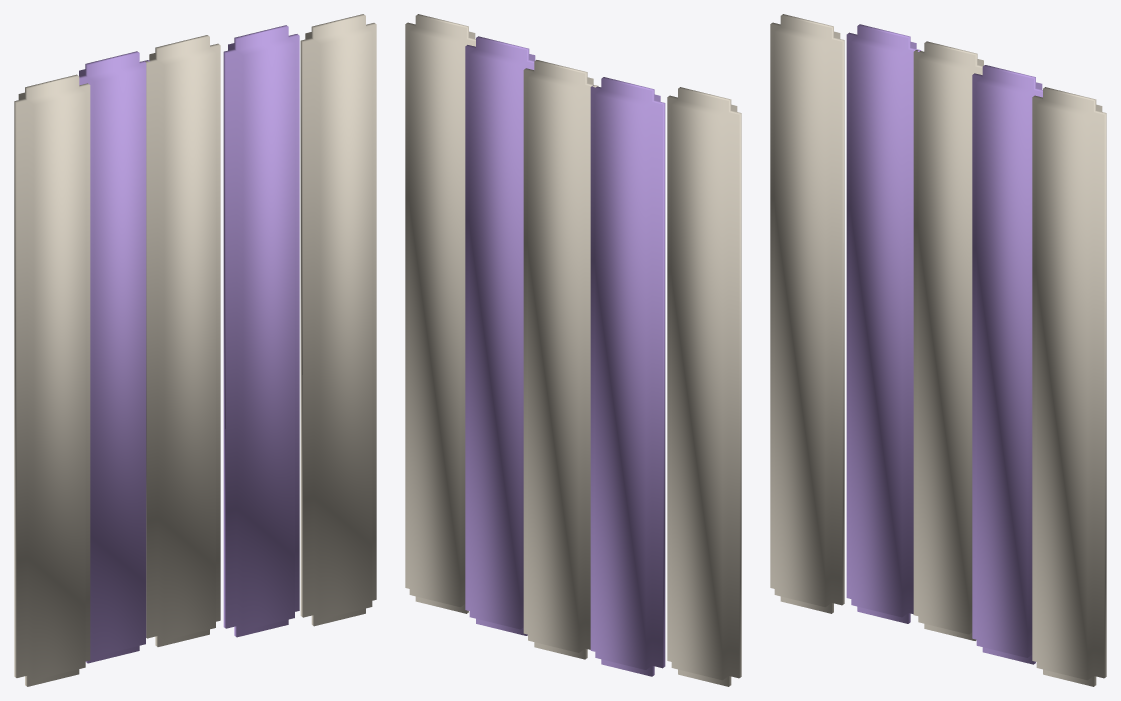
File: FloristCurtain.fbx
3 views of the same model, side by side, from view 1: azimuth 30°, elevation 25°; view 2: azimuth 150°, elevation 25°; view 3: azimuth 330°, elevation 25° (orthographic). The views are drawn at different scales.
Visible parts, largest first — view 1: FloristCurtain; view 2: FloristCurtain; view 3: FloristCurtain.
Part boxes in pixels (x1,y1,x2,y2): FloristCurtain: (14, 14, 376, 686); FloristCurtain: (405, 14, 741, 686); FloristCurtain: (770, 14, 1106, 686).
Size of the model in its own units: 0.81 by 1.32 by 0.1337.
